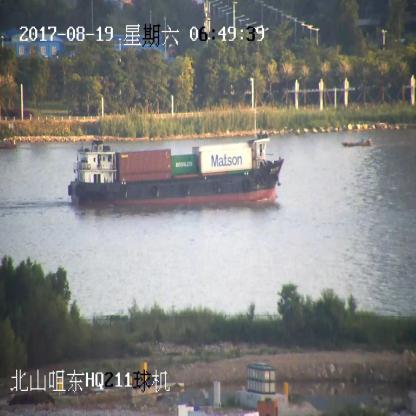Fishing Boat: (342, 138, 372, 149)
